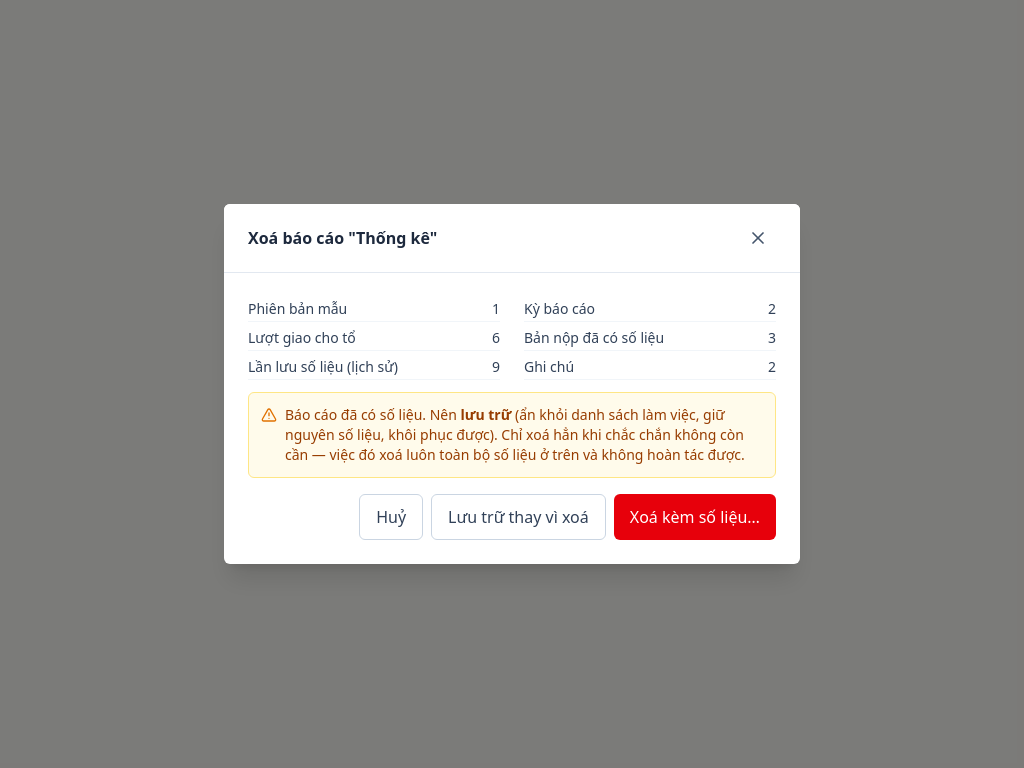
it: ReportDeleteDialog › when the server refuses (not an admin), the reason is shown and nothing is reported as deleted
This screenshot has width=1024, height=768.
Click the button with test id "btn-force-open" at (695, 517), box [614, 494, 776, 540]
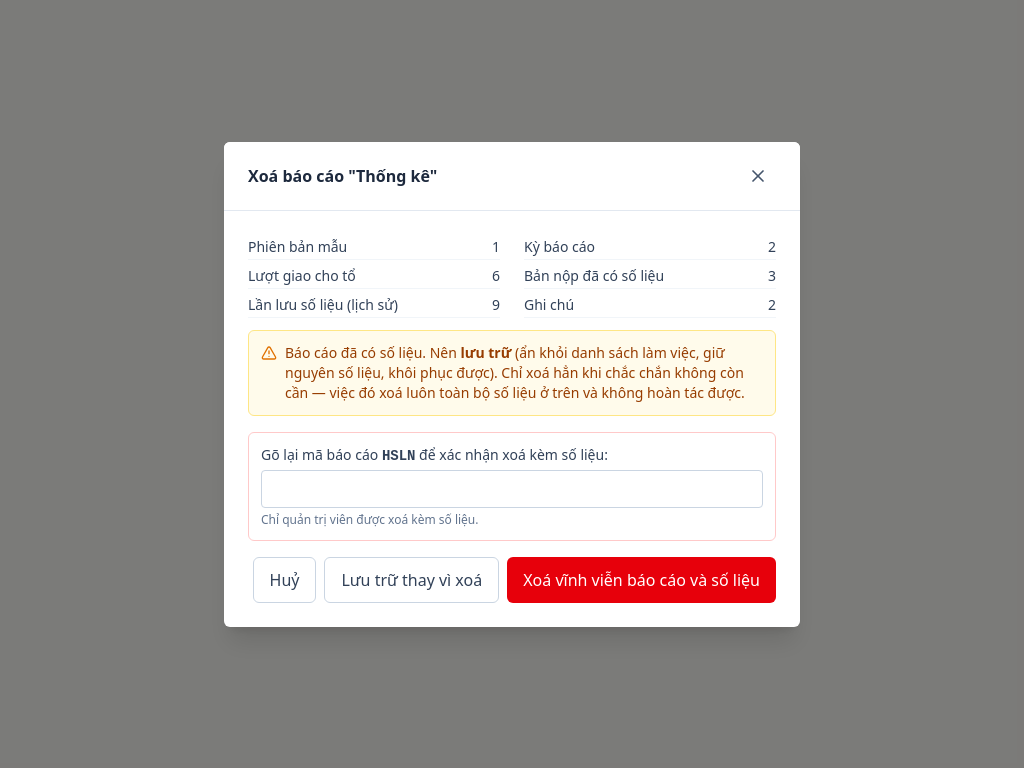
Type "HSLN" into the field with test id "input-confirm-code" at (512, 488), box [261, 470, 763, 508]
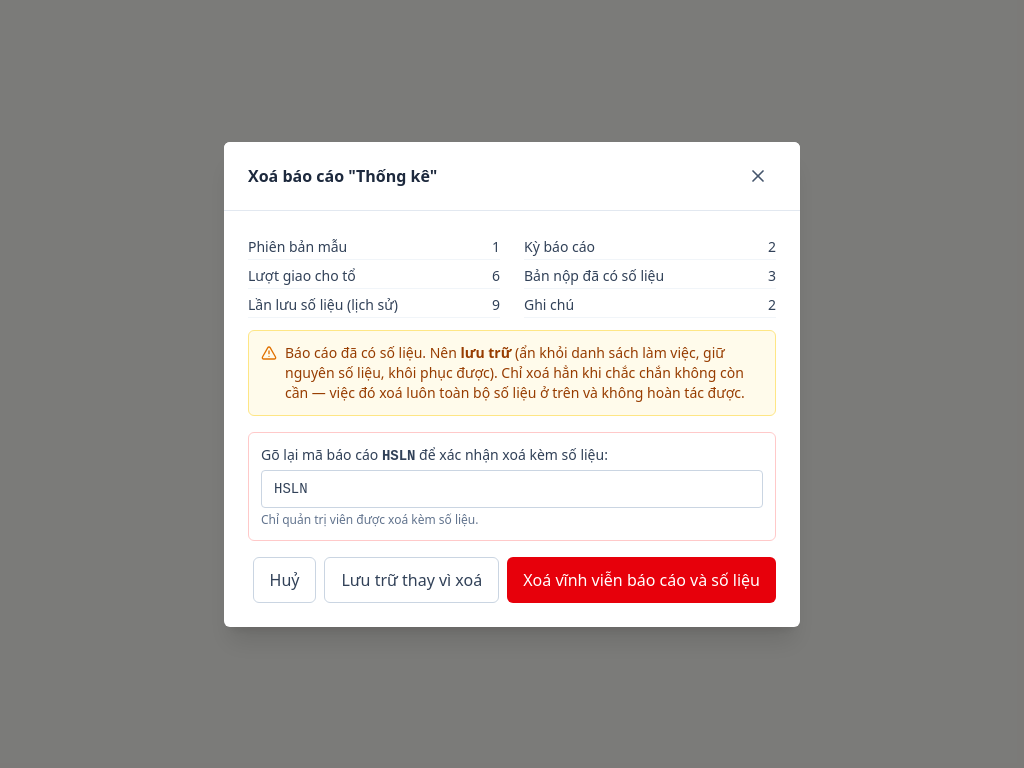
Click the button with test id "btn-force-delete" at (642, 580), box [507, 556, 776, 602]
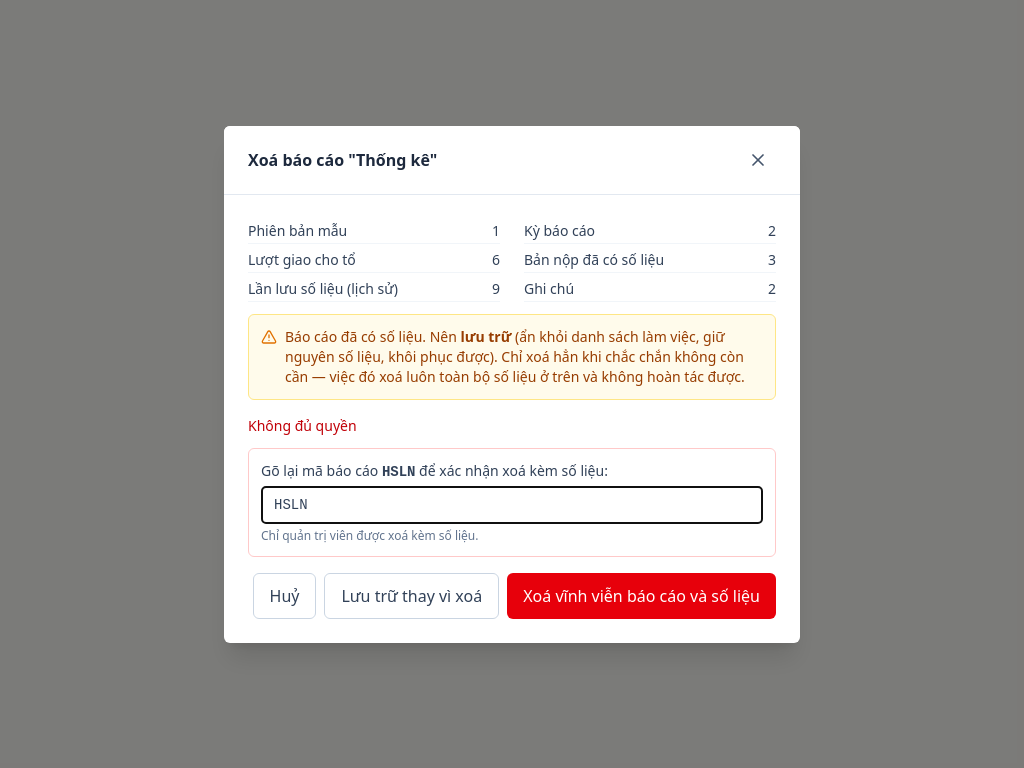
Expected: the text "Không đủ quyền" is shown, [248, 416, 357, 434]
